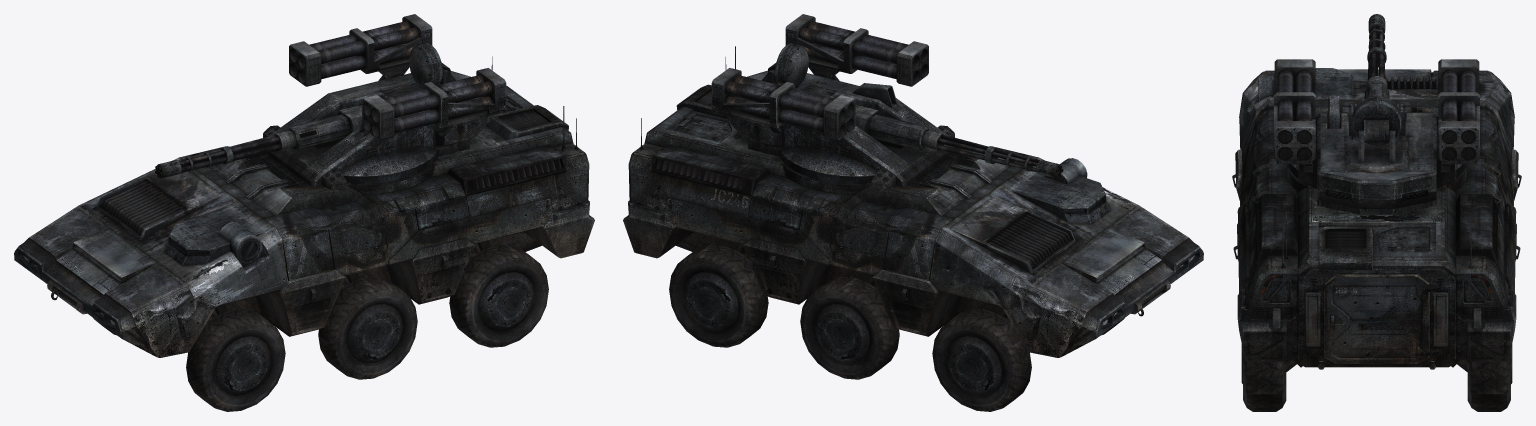
The model's file is frontlinesapc2.dae.
3 views of the same model, side by side, from view 1: azimuth 30°, elevation 25°; view 2: azimuth 150°, elevation 25°; view 3: azimuth 270°, elevation 25° (orthographic). The views are drawn at different scales.
Parts seen in each view (by area): view 1: AntiAir; view 2: AntiAir; view 3: AntiAir.
Part boxes in pixels (<box>): AntiAir: <box>14,14,594,411</box>; AntiAir: <box>623,14,1203,411</box>; AntiAir: <box>1232,14,1521,411</box>.
Size of the model in its own units: 272 by 127 by 143.
Materials: 1 (1 with a texture image).
